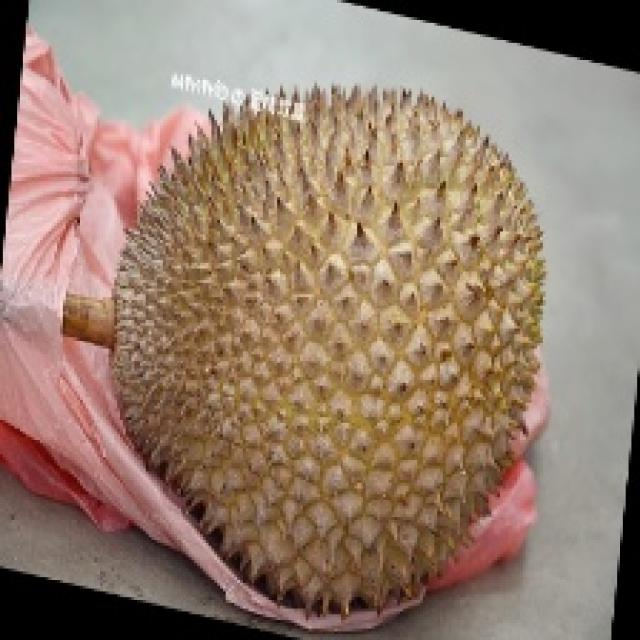d175: (68, 69, 550, 615)
